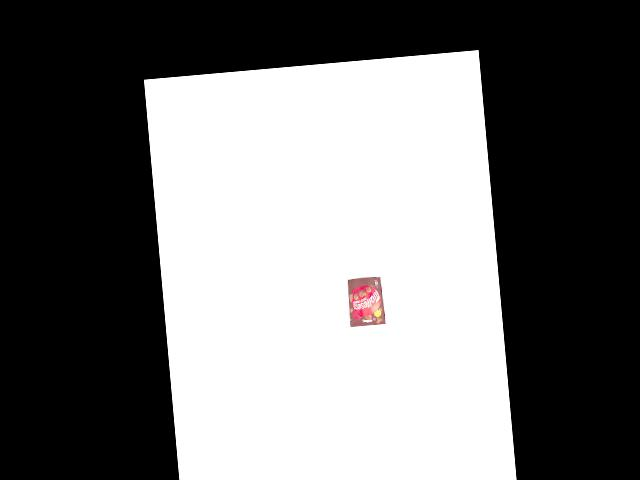chocolate: (345, 274, 385, 328)
